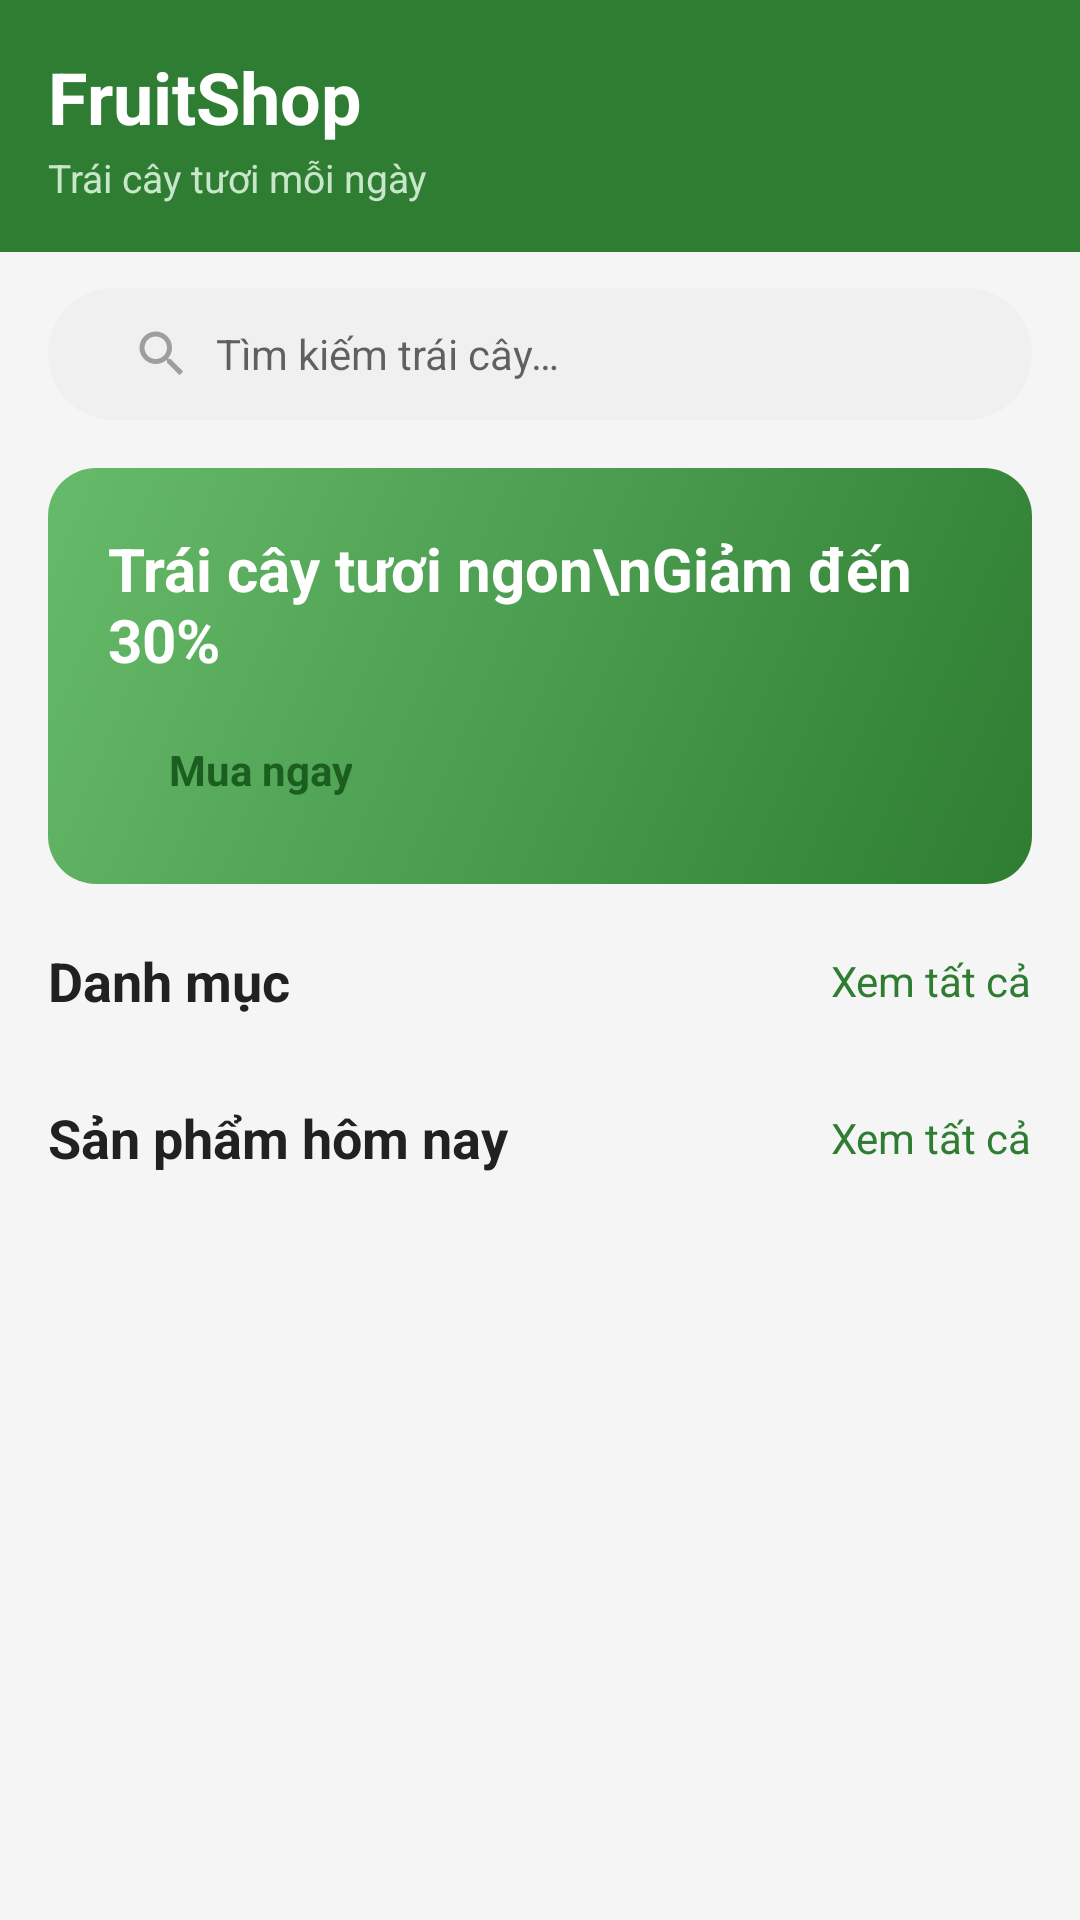

Where to tap for icons on this 1080px×1920px app screen, as (x,y):
Search: (161,353)
